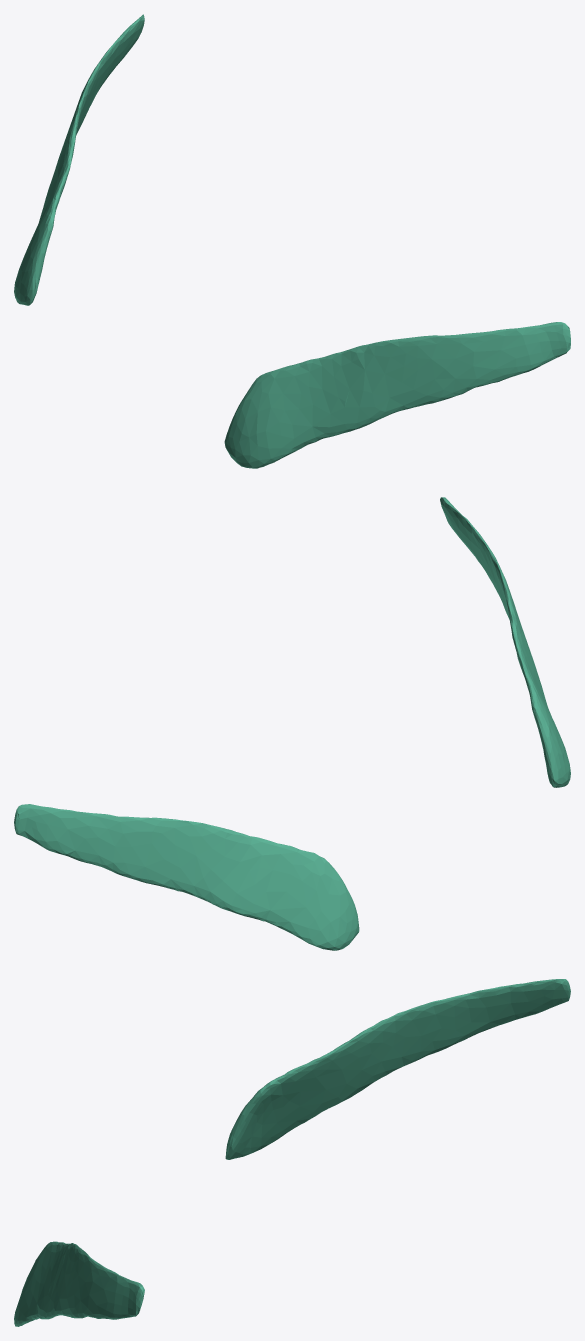
3 views of the same model, one above another, from view 1: azimuth 30°, elevation 25°; view 2: azimuth 150°, elevation 25°; view 3: azimuth 330°, elevation 25° (orthographic).
Visible parts, largest first — view 1: 996.obj; view 2: 996.obj; view 3: 996.obj.
Part boxes in pixels (<box>): 996.obj: <box>14,14,570,468</box>; 996.obj: <box>14,497,570,950</box>; 996.obj: <box>14,979,570,1326</box>.
Size of the model in its own units: 2496 by 1671 by 8077.
